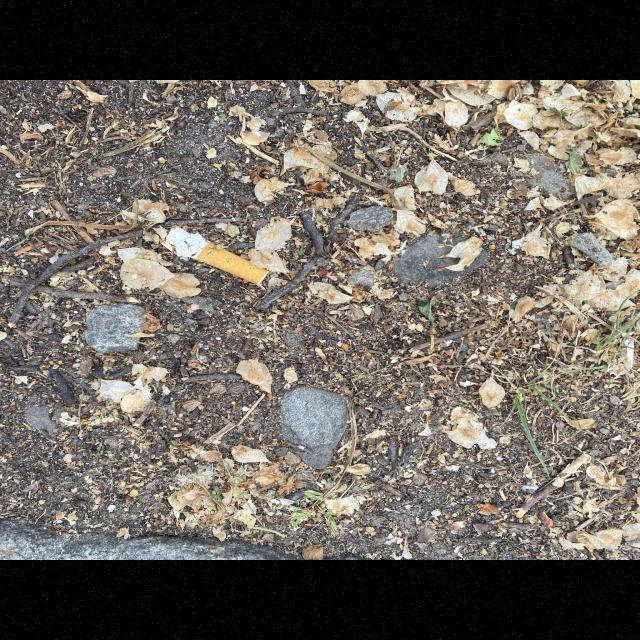other waste: (151, 224, 270, 286)
